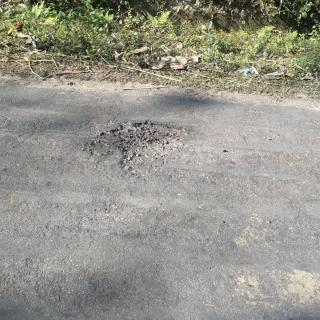pothole: (86, 122, 181, 174)
